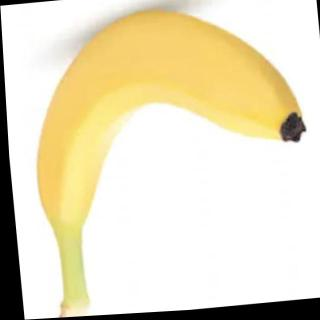banana: (19, 0, 315, 233)
